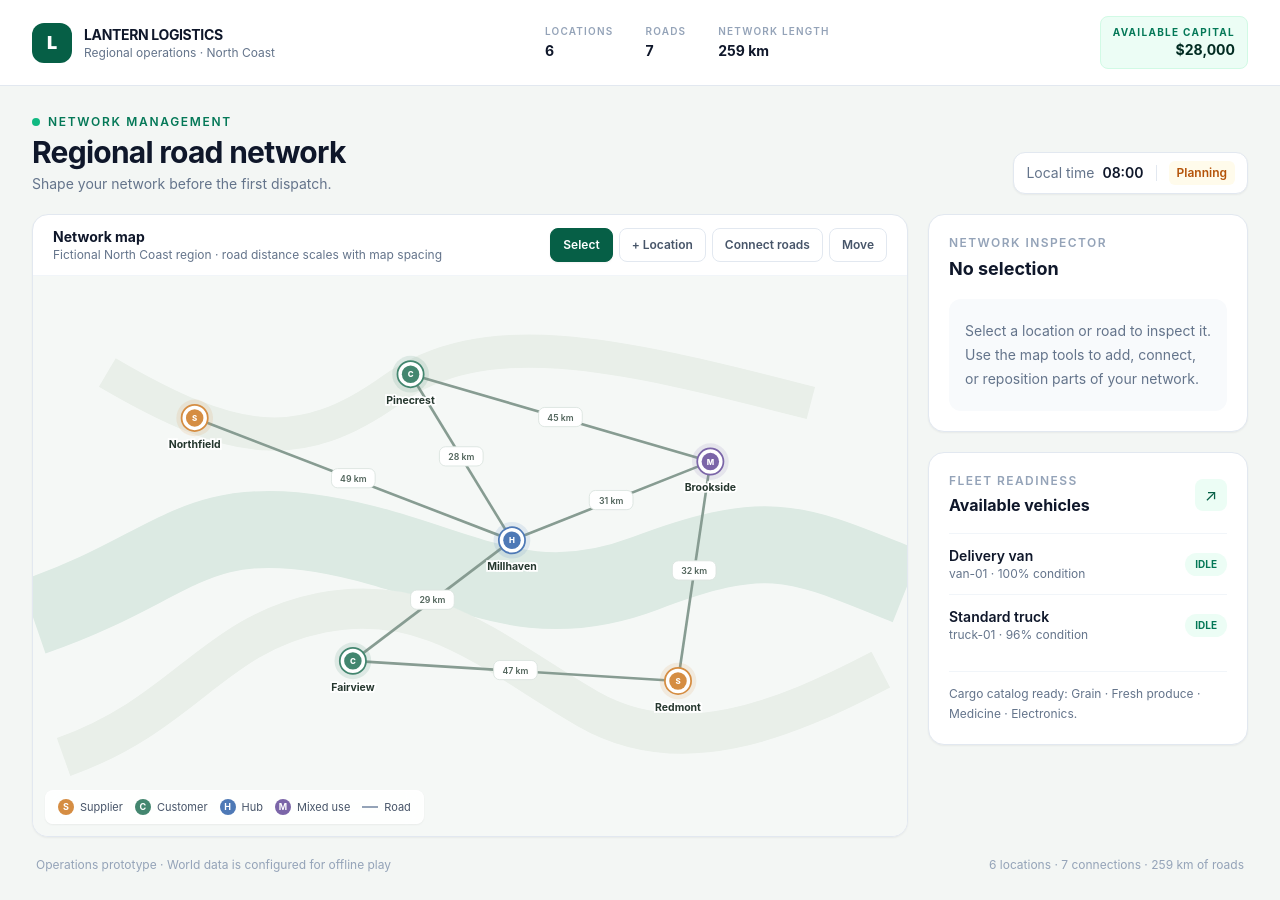
adds a location to the map using the add tool
The width and height of the screenshot is (1280, 900).
Click the button "+ Location". click: x=662, y=245
box: x1=619 y1=228 x2=706 y2=262
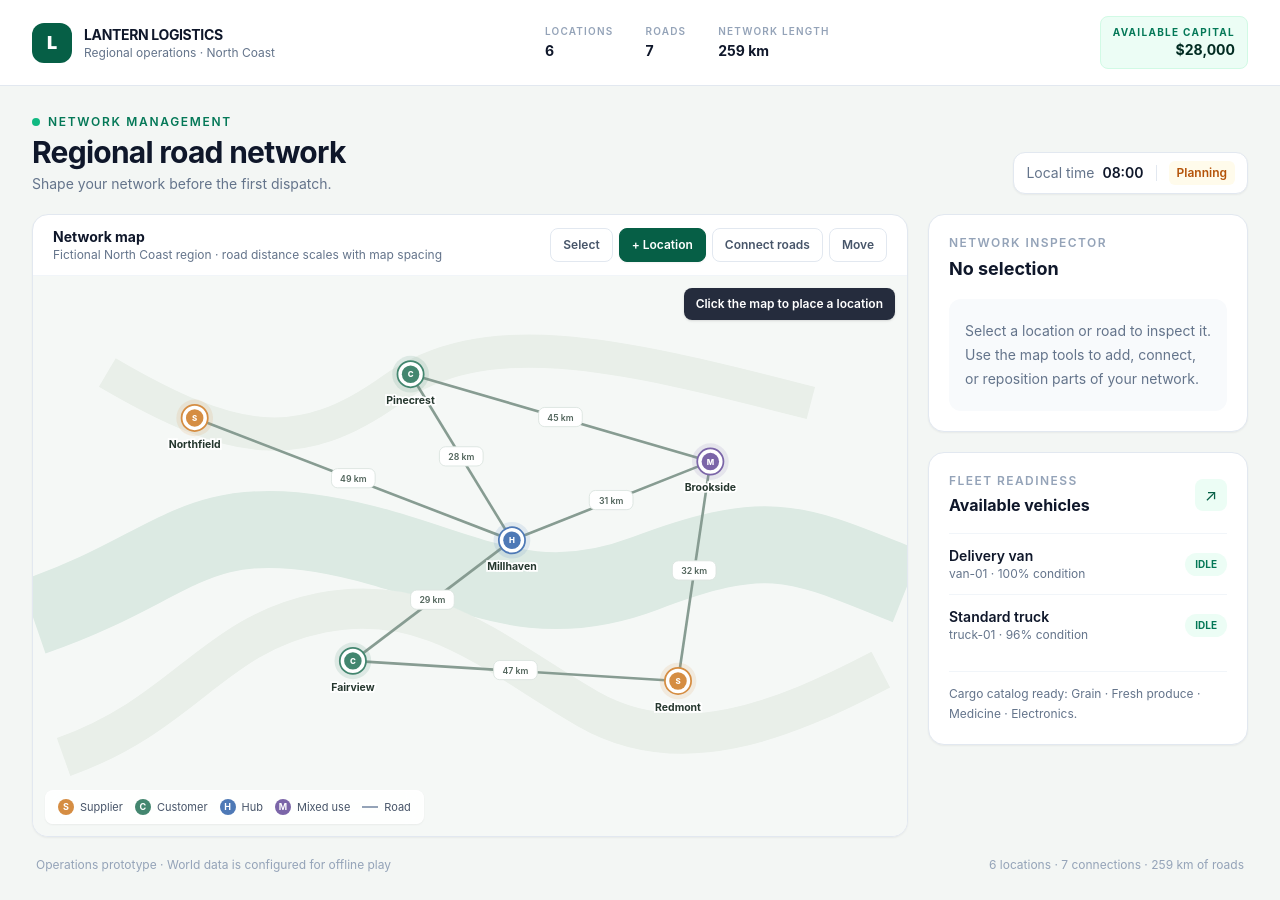
Click the picture named "interactive road map". click: x=470, y=802
box: x1=33 y1=276 x2=907 y2=836
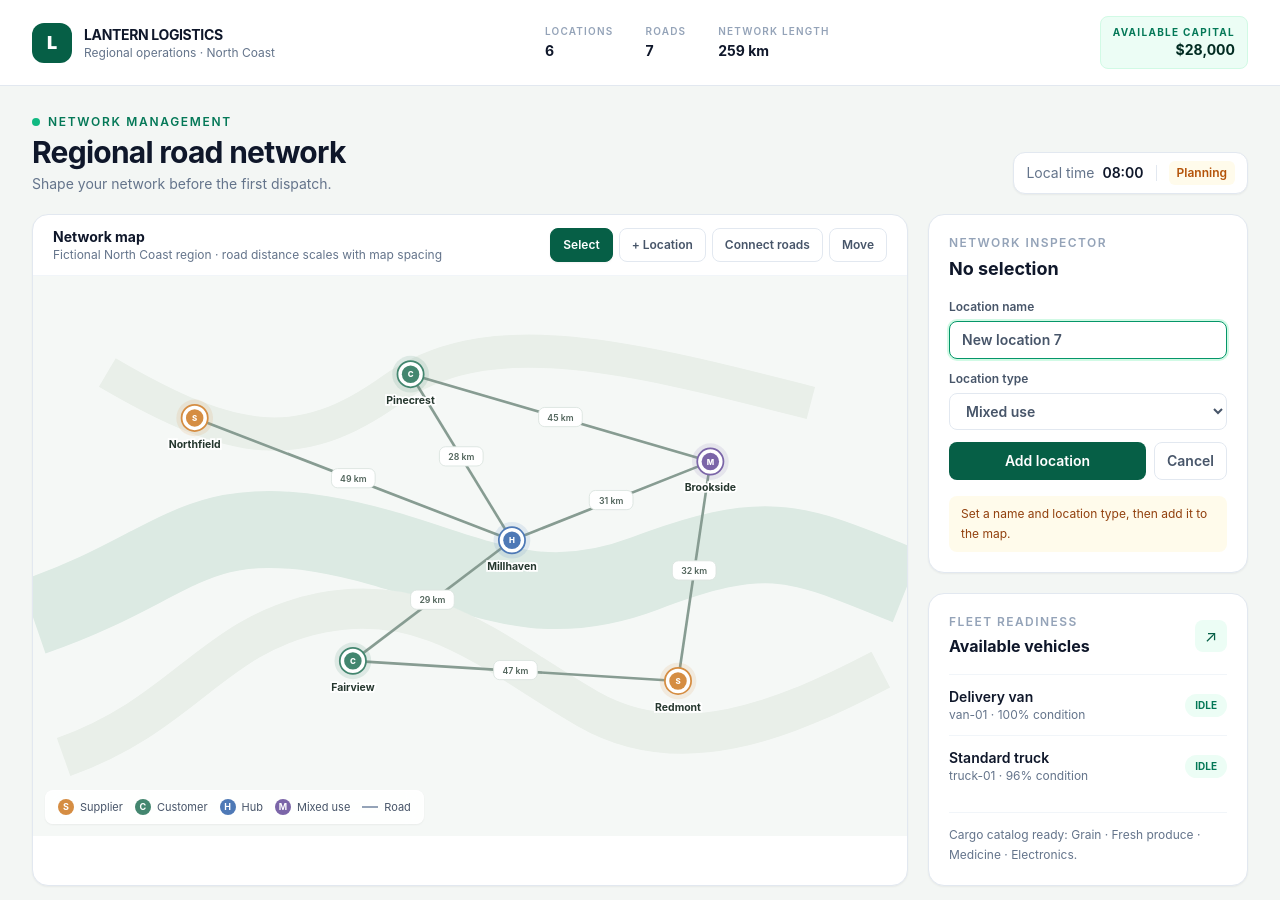
Replace the text in the field labelled "Location name" with "Harbor Point". click: x=1088, y=340
box: x1=949 y1=321 x2=1227 y2=359
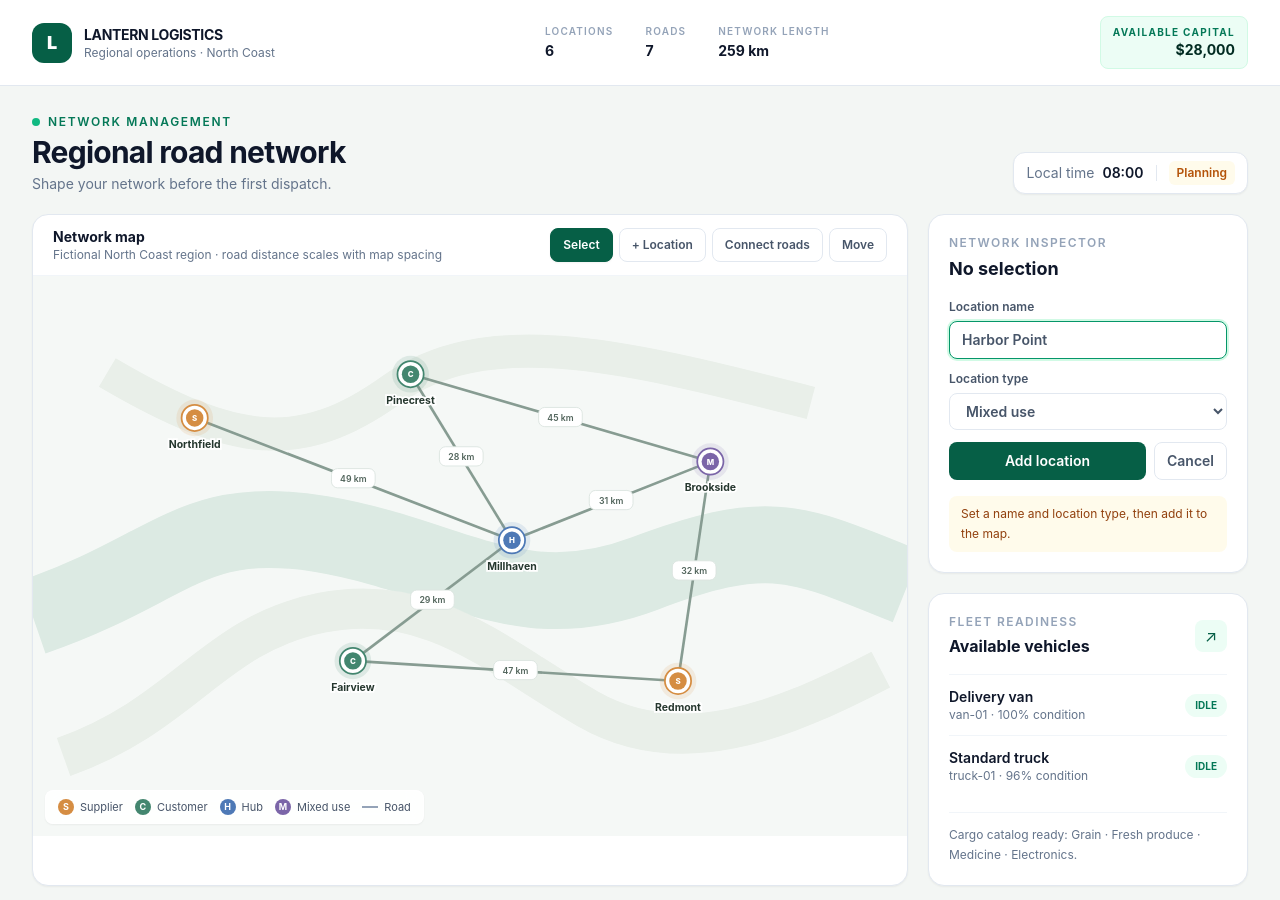
Click the button "Add location". click: x=1048, y=461
box: x1=949 y1=442 x2=1146 y2=480
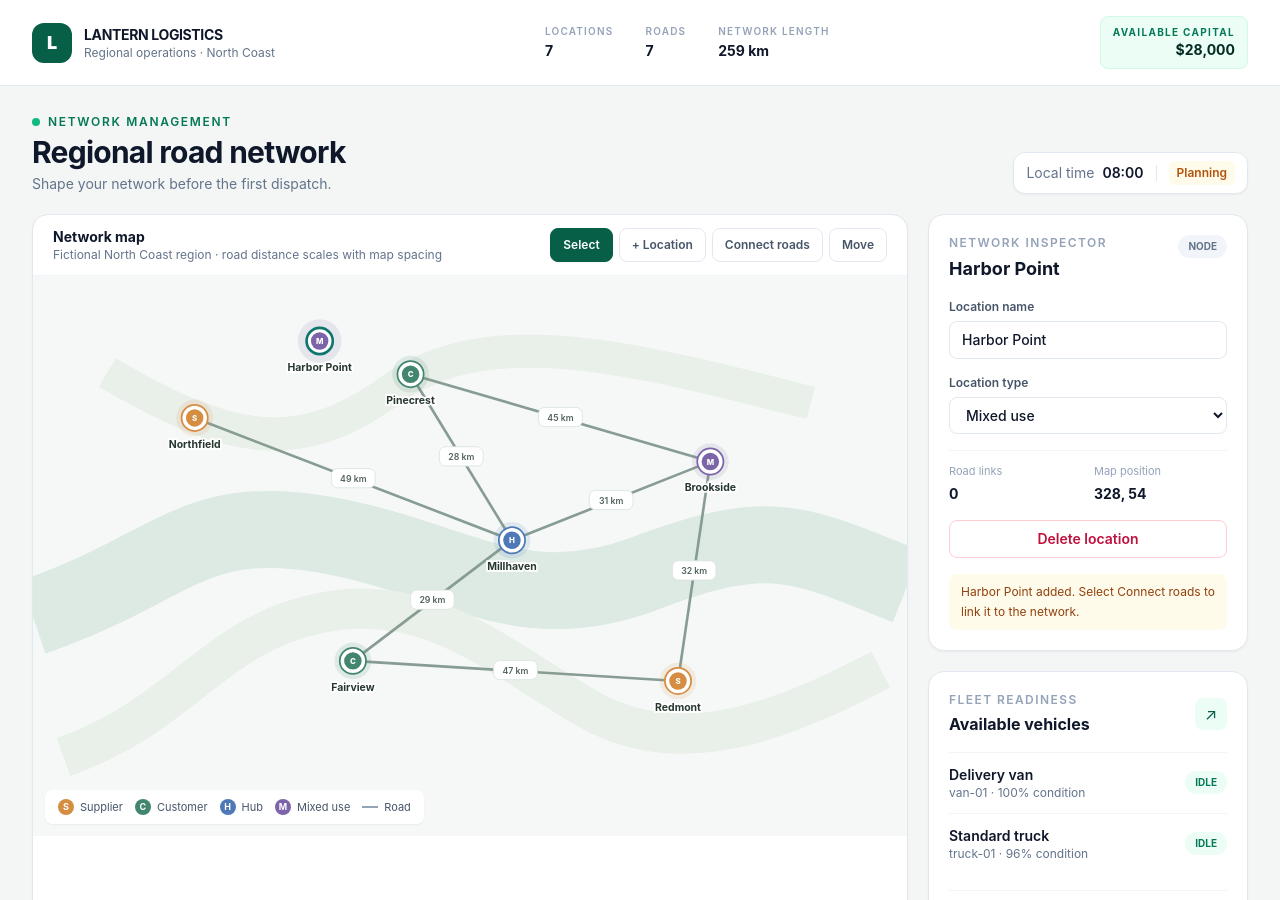
Expected: the button "harbor point, mixed use" is shown, x1=288 y1=319 x2=352 y2=374
Now the picture named "7 locations and 7 roads" is shown, box x1=33 y1=276 x2=907 y2=836
